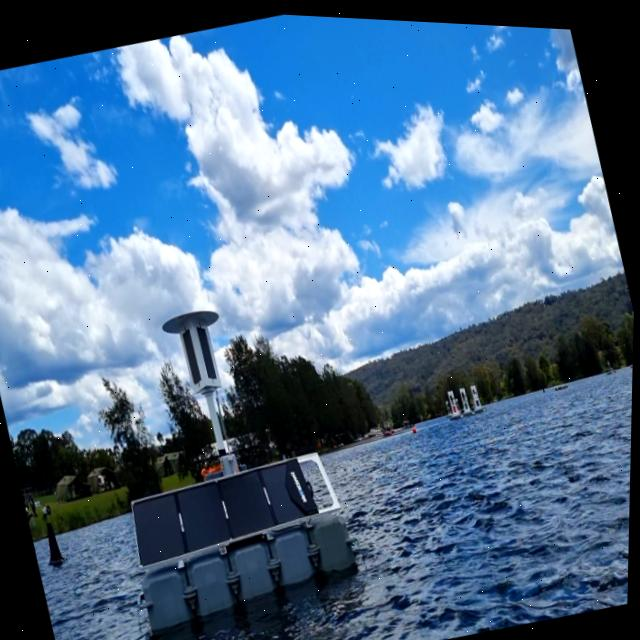led: (194, 321, 220, 381), (180, 327, 207, 384)
